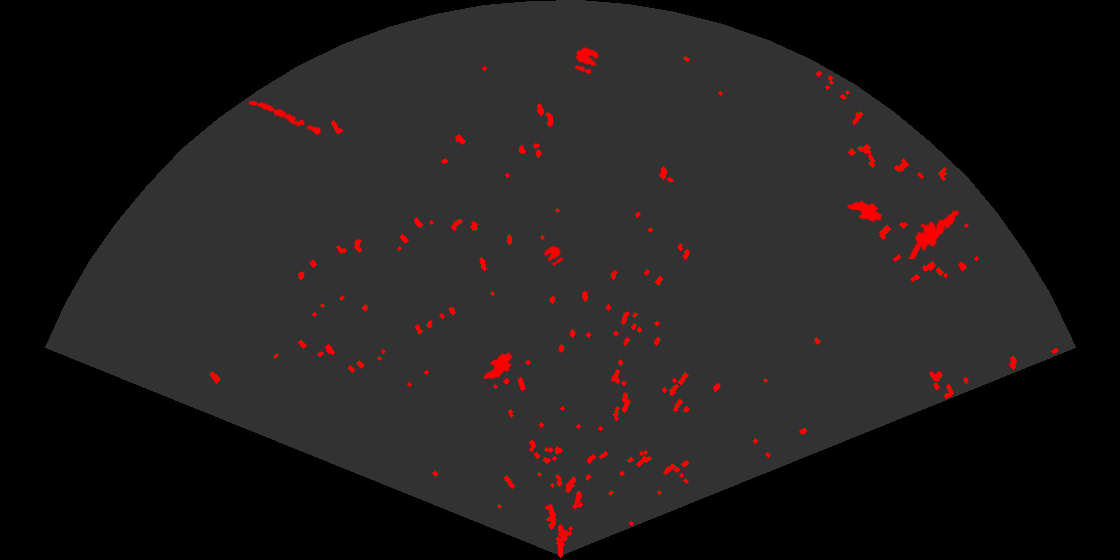AUV: (845, 199, 884, 224), (482, 351, 514, 381)
ball: (573, 45, 601, 76), (542, 244, 565, 268)
chain: (246, 99, 329, 138)
frogman: (907, 208, 961, 259)
